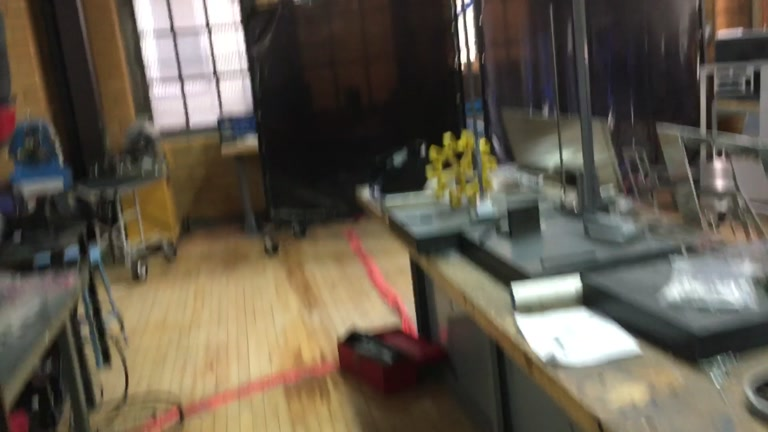gear: (427, 132, 495, 209)
